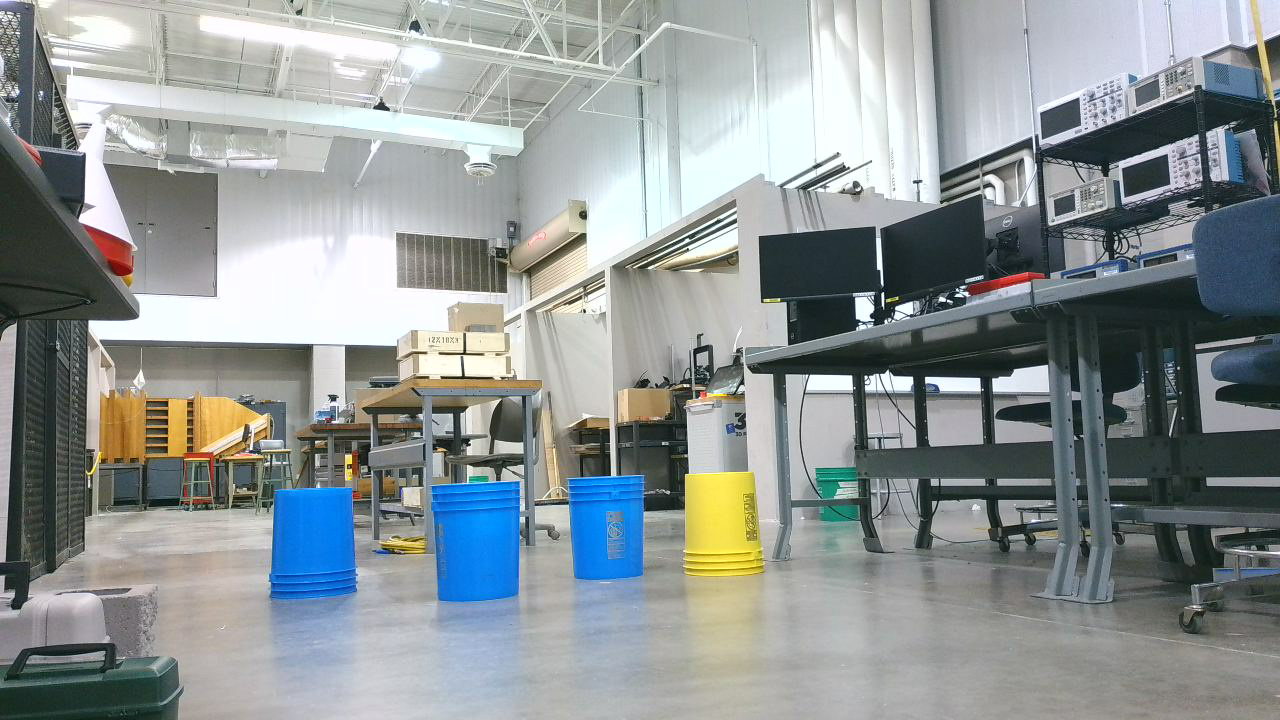blue_bucket: (433, 482, 530, 612), (270, 489, 366, 603), (569, 479, 655, 587)
yellow_bucket: (685, 472, 776, 584)
